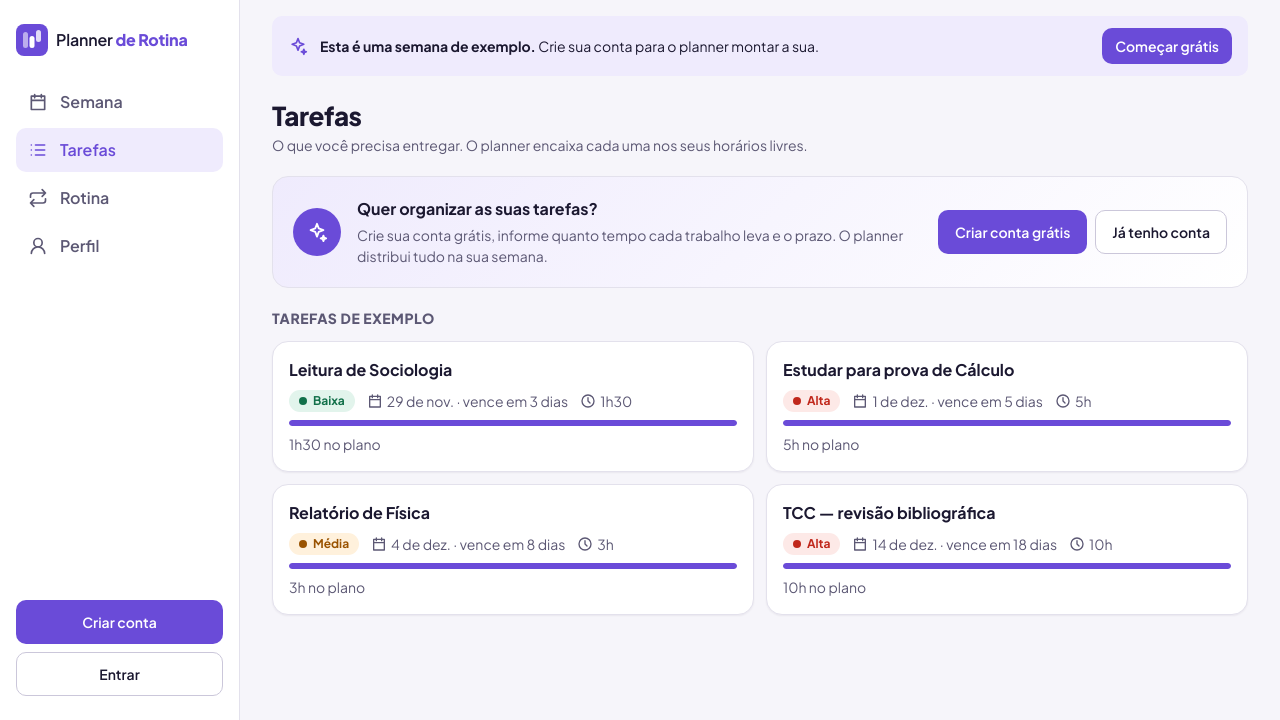
Test case: modo demonstração (RF14) › /tarefas mostra o exemplo com convite para criar conta
This screenshot has width=1280, height=720.
Check: the heading "Tarefas" is shown, box [272, 99, 362, 132]
Check: the heading "Quer organizar as suas tarefas?" is shown, box [357, 198, 598, 219]
Click the button "Criar conta grátis" at (1013, 232), box [938, 210, 1087, 254]
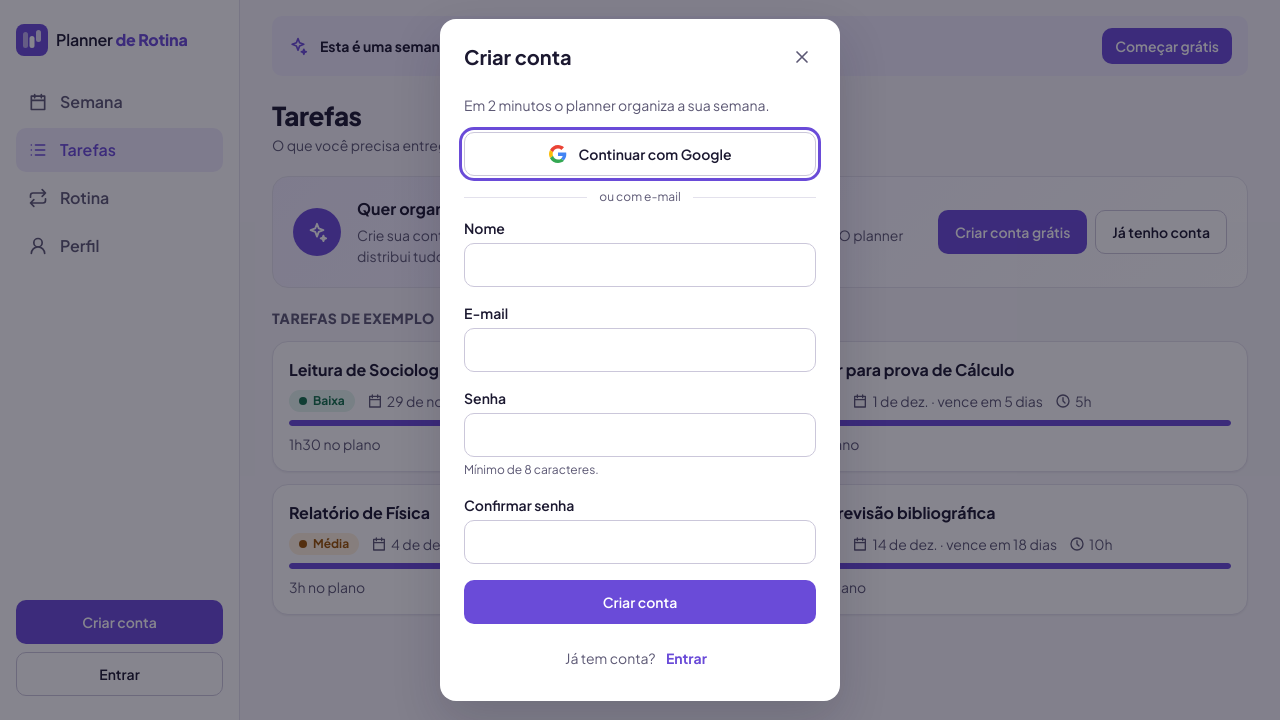
Check: the dialog "Criar conta" is shown, box [440, 19, 840, 701]
